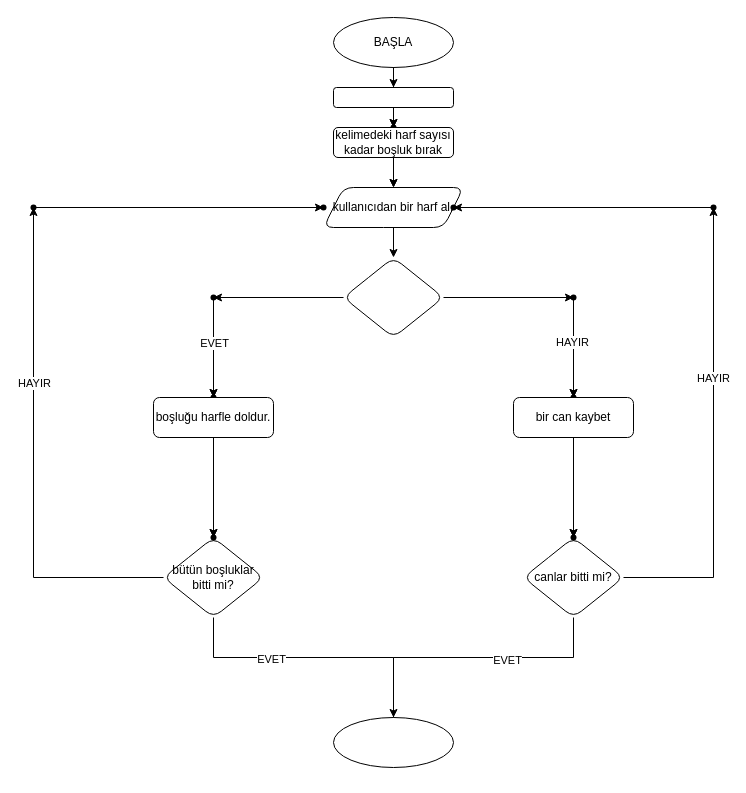
Some shapes in this 746 by 793 pixel diagram are drawn without their labels. Here are the shapes that lost their labels. From the top down, the centre of each, then its label:
At (393,97): "bir kelime türet".
At (393,297): "harf kelimede var mı?".
At (393,742): "BİTTİ".
